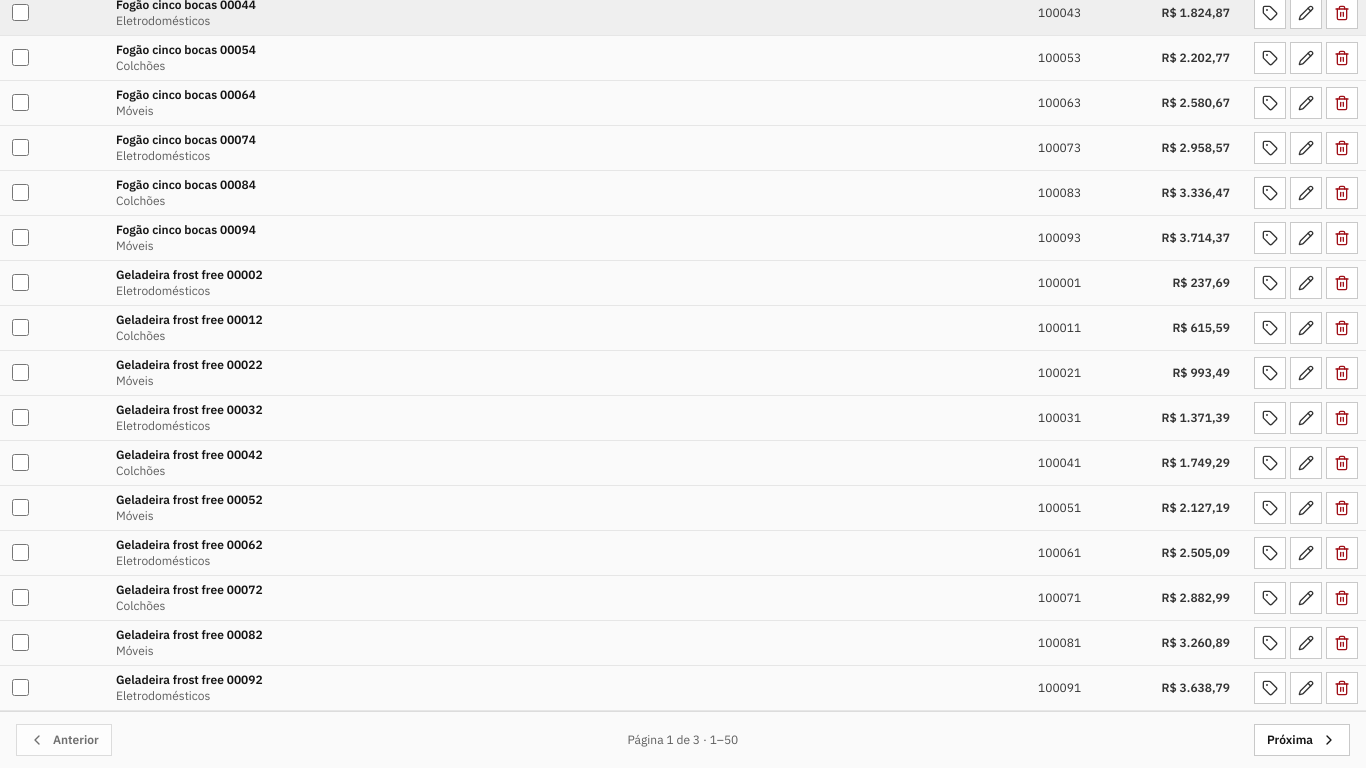
it: volta ao inicio e pagina mantida › remover o ultimo produto da ultima pagina mostra a nova ultima
The image size is (1366, 768).
Click the button "Próxima".
click(1302, 740)  # box [1254, 724, 1350, 756]
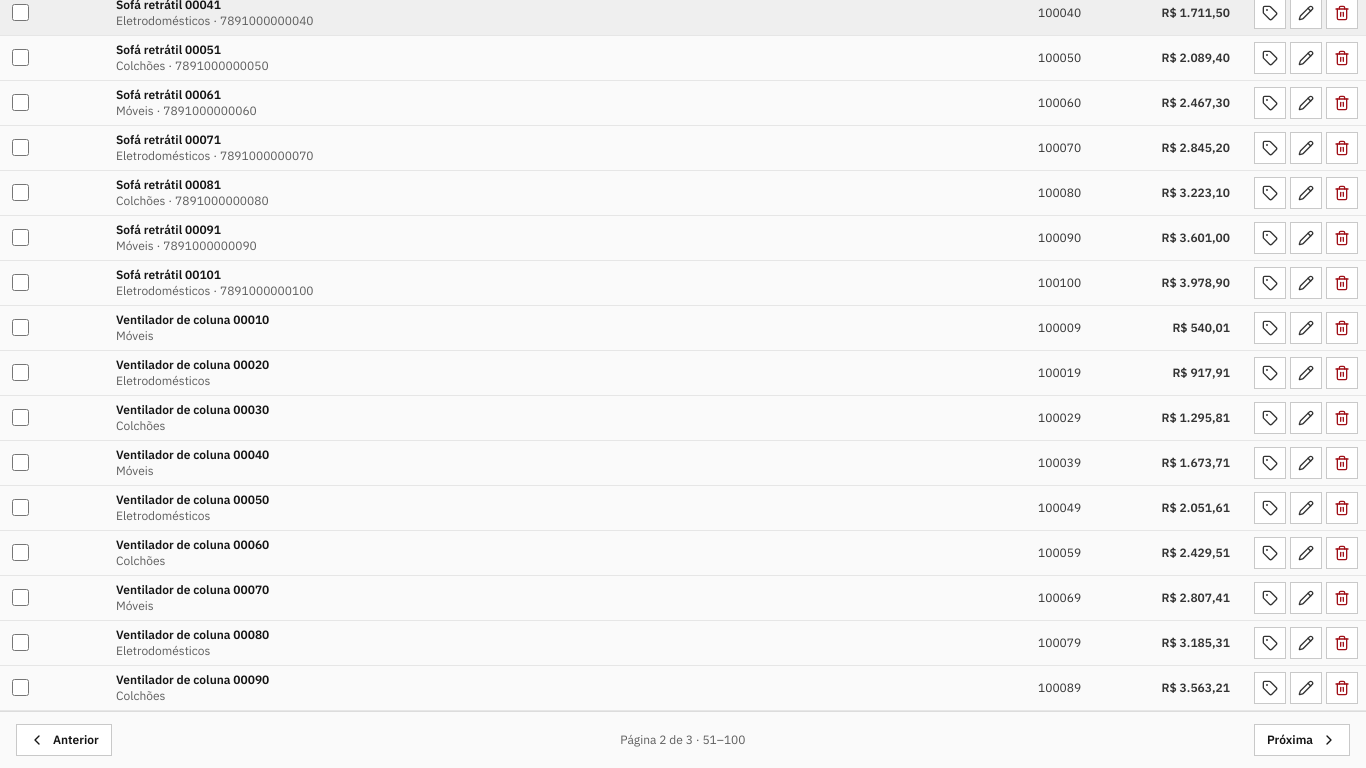
Click the button "Próxima".
click(1302, 740)  # box [1254, 724, 1350, 756]
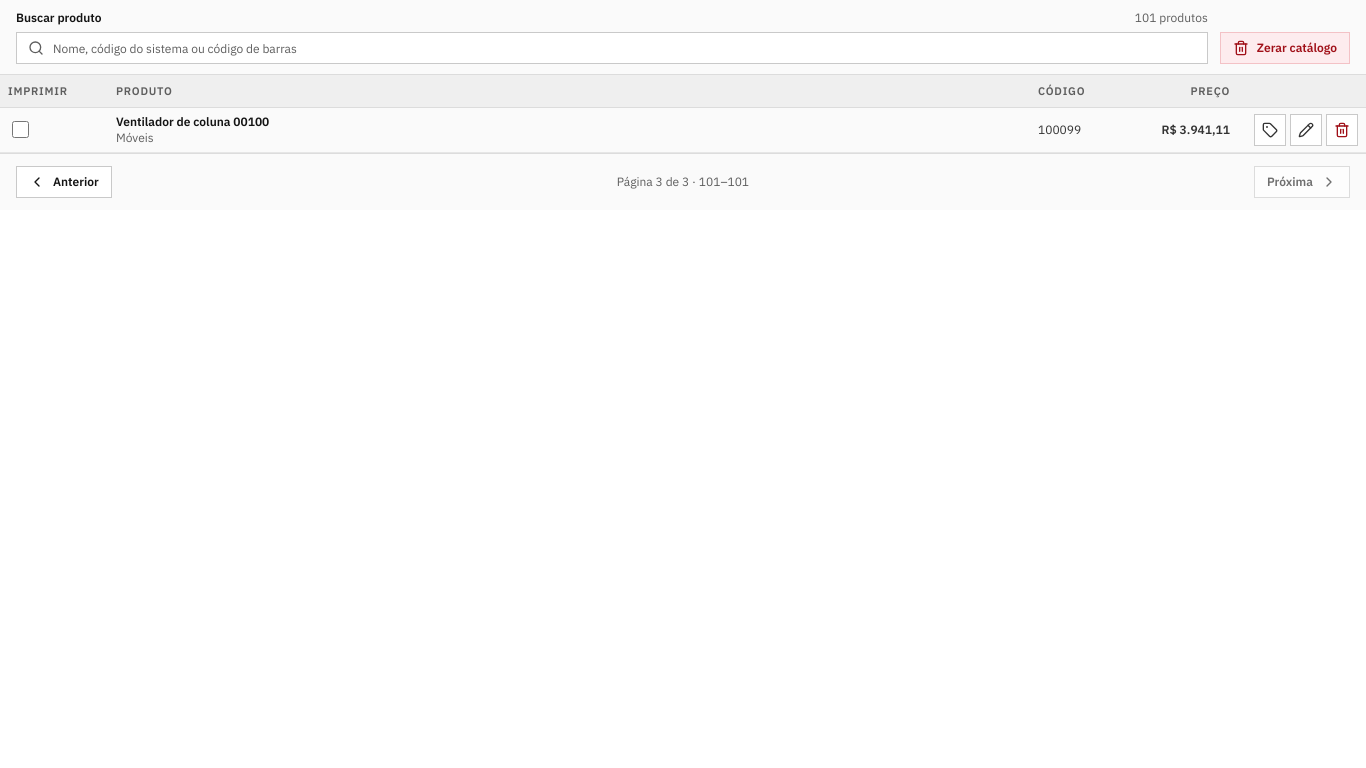
Click the button named "Remover Ventilador de coluna 00100".
click(1342, 130)  # box [1326, 114, 1358, 146]
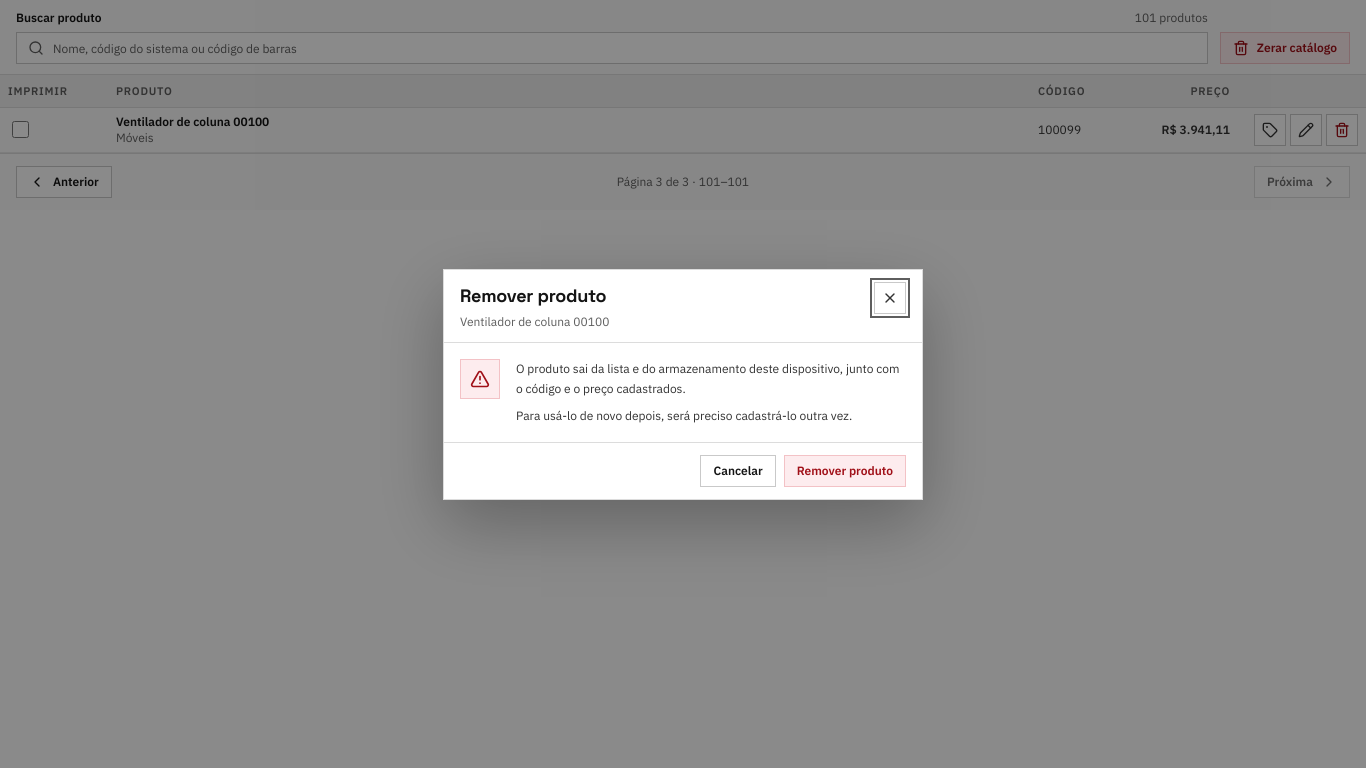
Check: the button "Remover produto" is shown
Click the button "Remover produto".
click(845, 470)  # box [784, 454, 906, 486]
(page scrolled)
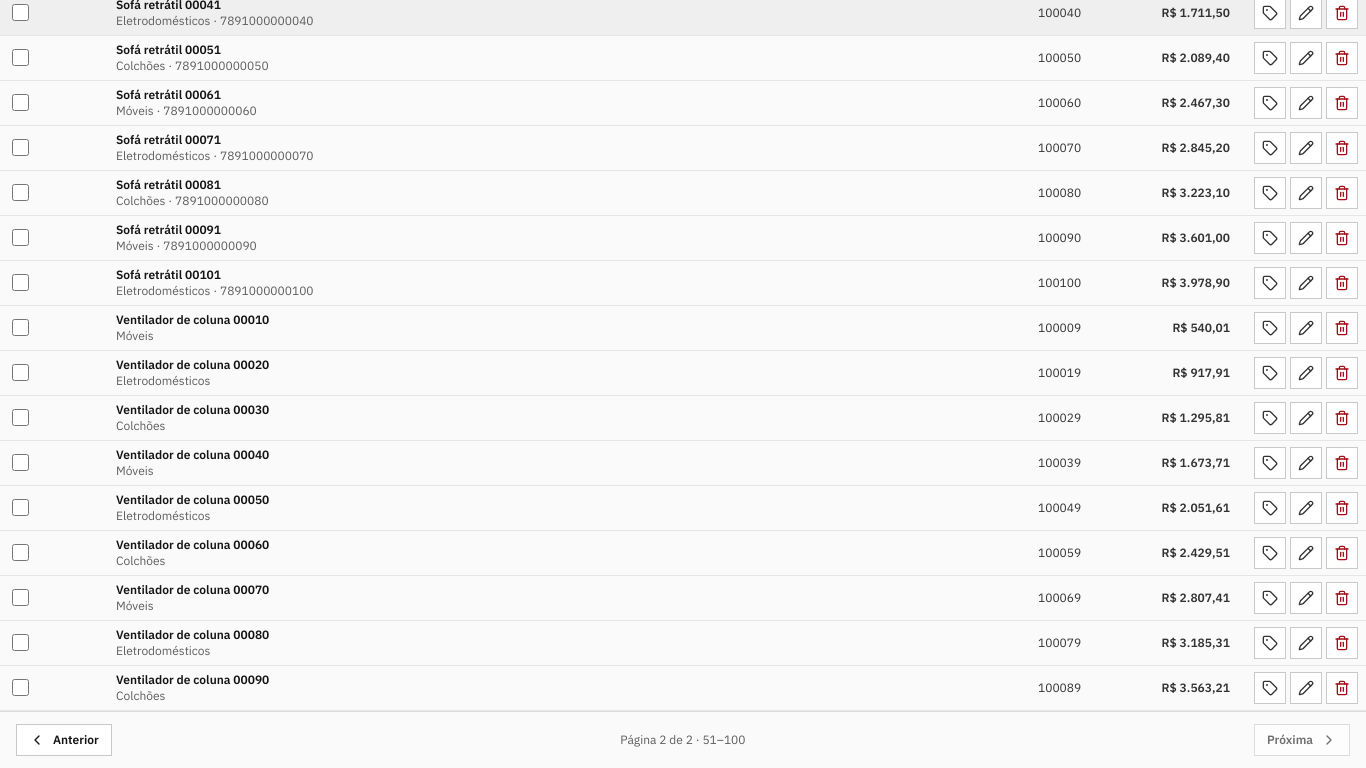
Check: the element showing "Página 2 de 2 · 51–100" is shown, box [620, 732, 746, 748]
